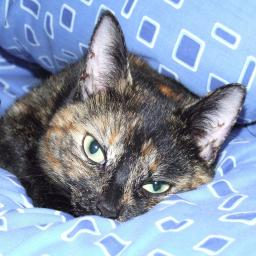catnose: (94, 200, 123, 218)
